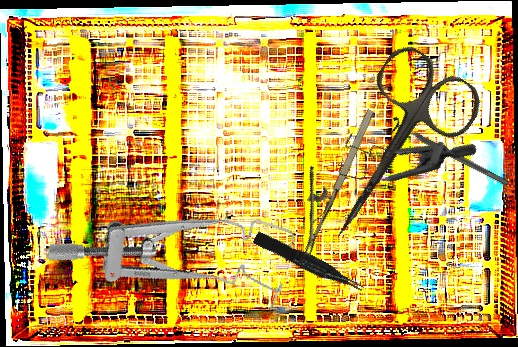Fixation Ring: (385, 115, 513, 193)
Iris Scissors: (292, 39, 490, 263)
Needle Holder: (275, 97, 379, 257)
Speculum: (44, 162, 300, 331), (323, 78, 479, 227)
Tissue Forceps: (252, 226, 366, 301)
